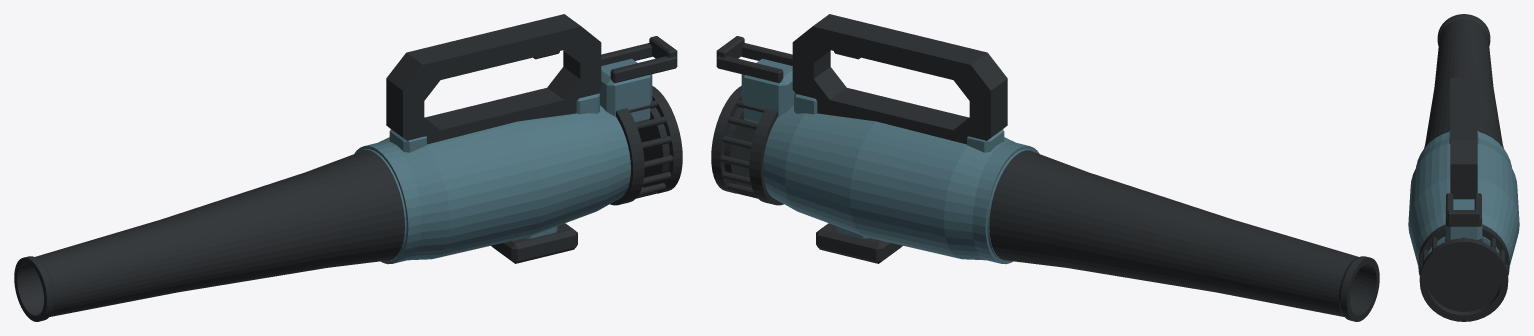
Rendered from full.glb.
The picture shows the model from 3 angles, left to right: view 1: azimuth 30°, elevation 25°; view 2: azimuth 150°, elevation 25°; view 3: azimuth 270°, elevation 25°; orthographic projection. The views are drawn at different scales.
Visible parts, largest first — view 1: Long tapered hollow nozzle, Coaxial bulbous fan housing, Long open upper arched handle, Nozzle seating collar, Raised empty battery mounting spine, Small lower resting foot, Rear intake forward collar, Rear intake outer collar, Generic recessed rear closure, Empty battery slide rail -0.02, Empty battery slide rail 0.02, Forward handle support; view 2: Long tapered hollow nozzle, Coaxial bulbous fan housing, Long open upper arched handle, Nozzle seating collar, Raised empty battery mounting spine, Small lower resting foot, Rear intake forward collar, Rear intake outer collar, Generic recessed rear closure, Empty battery slide rail 0.02, Empty battery slide rail -0.02, Forward handle support; view 3: Coaxial bulbous fan housing, Long tapered hollow nozzle, Generic recessed rear closure, Long open upper arched handle, Rear intake outer collar, Raised empty battery mounting spine, Rear intake forward collar, Battery rail end stop, Nozzle seating collar, Empty battery slide rail -0.02, Empty battery slide rail 0.02.
Boxes of the visible parts, <box> form: Long tapered hollow nozzle: <box>14,150,404,321</box>; Coaxial bulbous fan housing: <box>358,105,630,260</box>; Long open upper arched handle: <box>386,14,601,144</box>; Nozzle seating collar: <box>354,142,421,264</box>; Raised empty battery mounting spine: <box>599,58,652,123</box>; Small lower resting foot: <box>491,223,577,263</box>; Rear intake forward collar: <box>610,108,644,205</box>; Rear intake outer collar: <box>652,86,682,193</box>; Generic recessed rear closure: <box>638,107,669,187</box>; Empty battery slide rail -0.02: <box>610,56,677,82</box>; Empty battery slide rail 0.02: <box>601,43,652,65</box>; Forward handle support: <box>389,129,426,152</box>; Long tapered hollow nozzle: <box>989,150,1379,321</box>; Coaxial bulbous fan housing: <box>763,105,1035,260</box>; Long open upper arched handle: <box>792,14,1007,144</box>; Nozzle seating collar: <box>972,142,1039,264</box>; Raised empty battery mounting spine: <box>741,58,794,123</box>; Small lower resting foot: <box>816,223,902,263</box>; Rear intake forward collar: <box>749,108,783,205</box>; Rear intake outer collar: <box>711,86,741,193</box>; Generic recessed rear closure: <box>724,107,755,187</box>; Empty battery slide rail 0.02: <box>716,56,783,82</box>; Empty battery slide rail -0.02: <box>741,43,792,65</box>; Forward handle support: <box>967,129,1004,152</box>; Coaxial bulbous fan housing: <box>1408,138,1519,265</box>; Long tapered hollow nozzle: <box>1424,14,1503,148</box>; Generic recessed rear closure: <box>1427,248,1500,311</box>; Long open upper arched handle: <box>1450,78,1477,199</box>; Rear intake outer collar: <box>1419,238,1508,321</box>; Raised empty battery mounting spine: <box>1445,199,1482,239</box>; Rear intake forward collar: <box>1418,224,1509,276</box>; Battery rail end stop: <box>1447,210,1480,226</box>; Nozzle seating collar: <box>1416,132,1511,167</box>; Empty battery slide rail -0.02: <box>1446,193,1453,226</box>; Empty battery slide rail 0.02: <box>1474,193,1481,226</box>.
Size of the model in its own units: 0.8255 by 0.2715 by 0.156.
